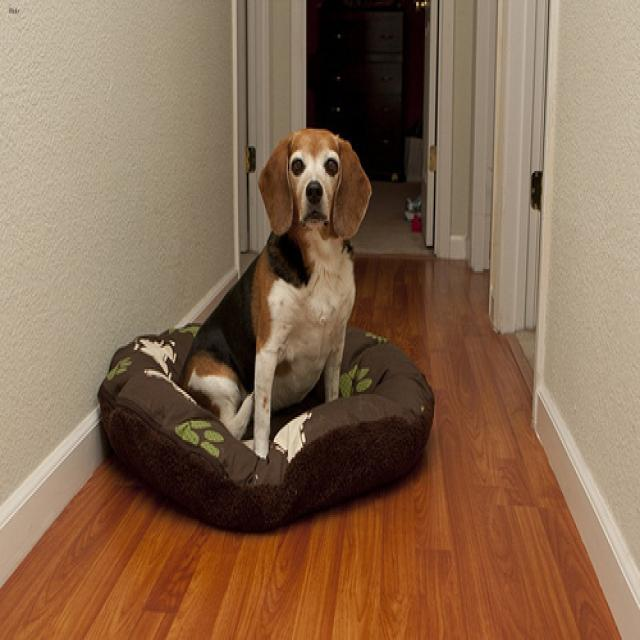dog-beagle: (169, 121, 379, 467)
